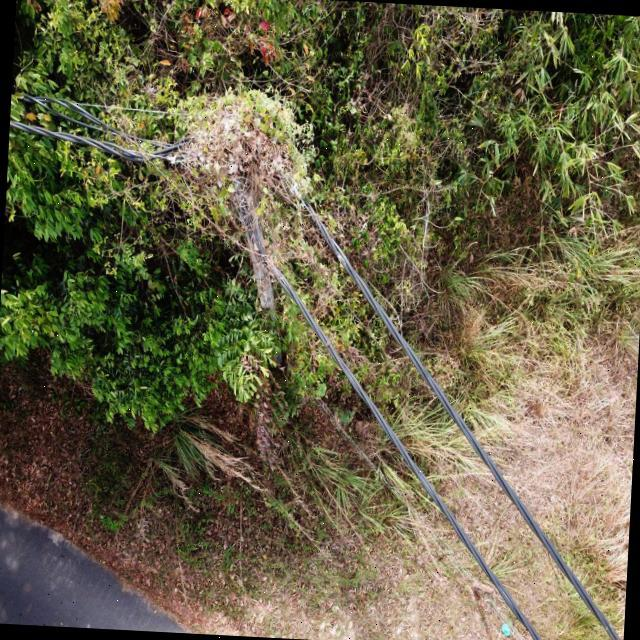critical vegetation: (143, 80, 316, 370)
